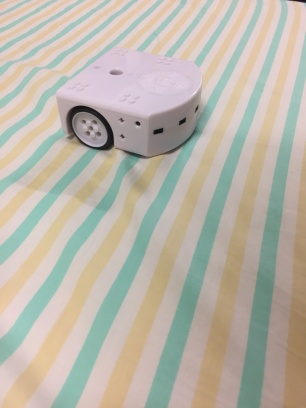thymio: (47, 42, 217, 162)
